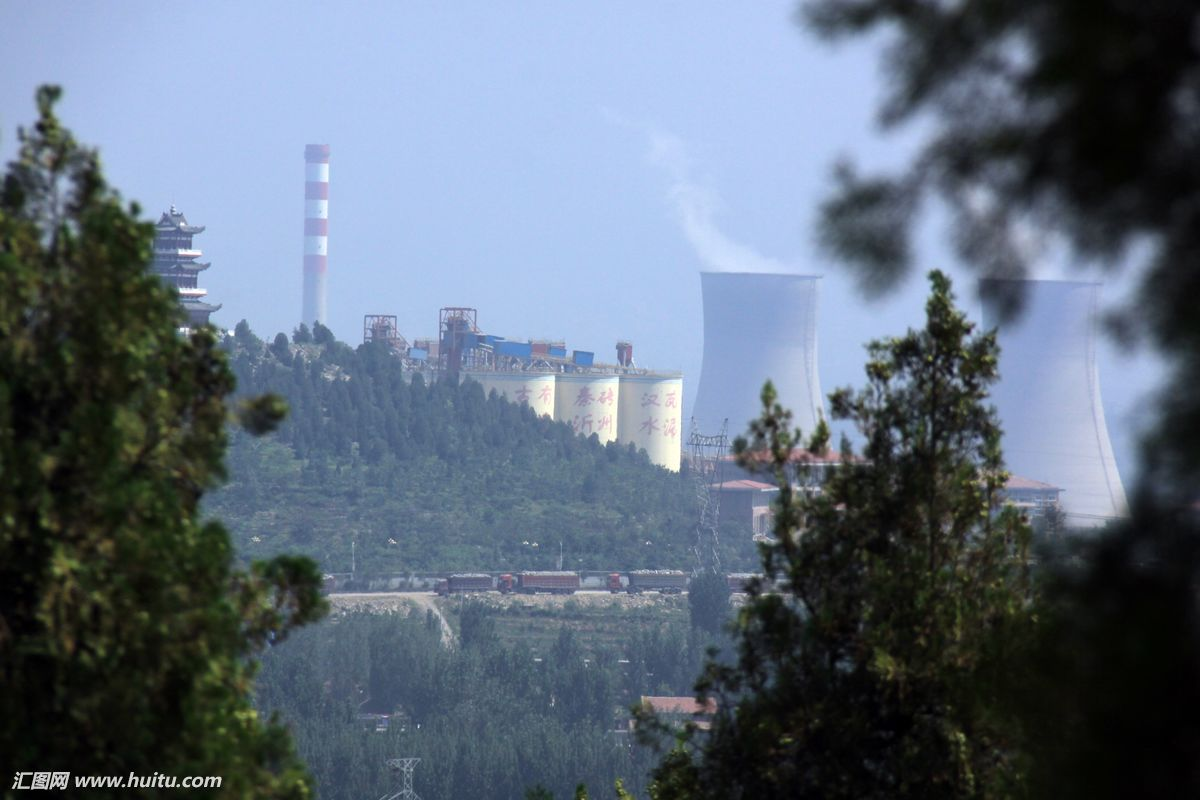dust: (648, 177, 819, 283)
